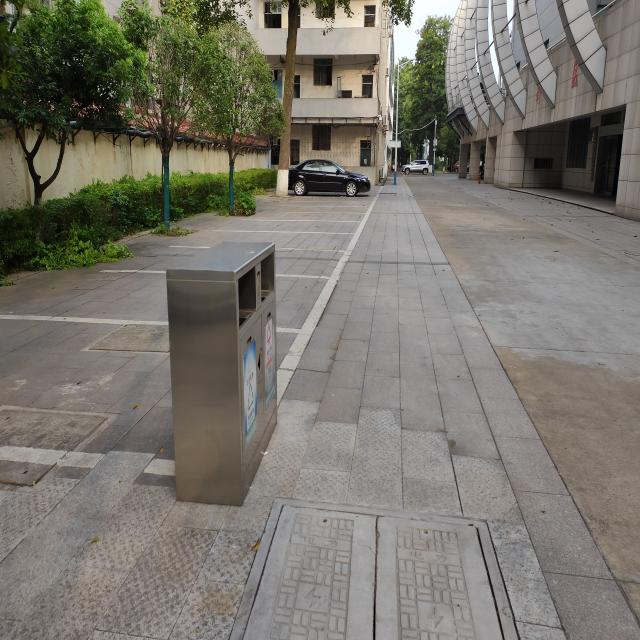ash bin: (164, 240, 279, 508)
car: (288, 158, 371, 196), (401, 159, 429, 175), (454, 160, 468, 172)
fire_hydrant: (477, 174, 481, 183)
pole: (394, 78, 399, 184)
